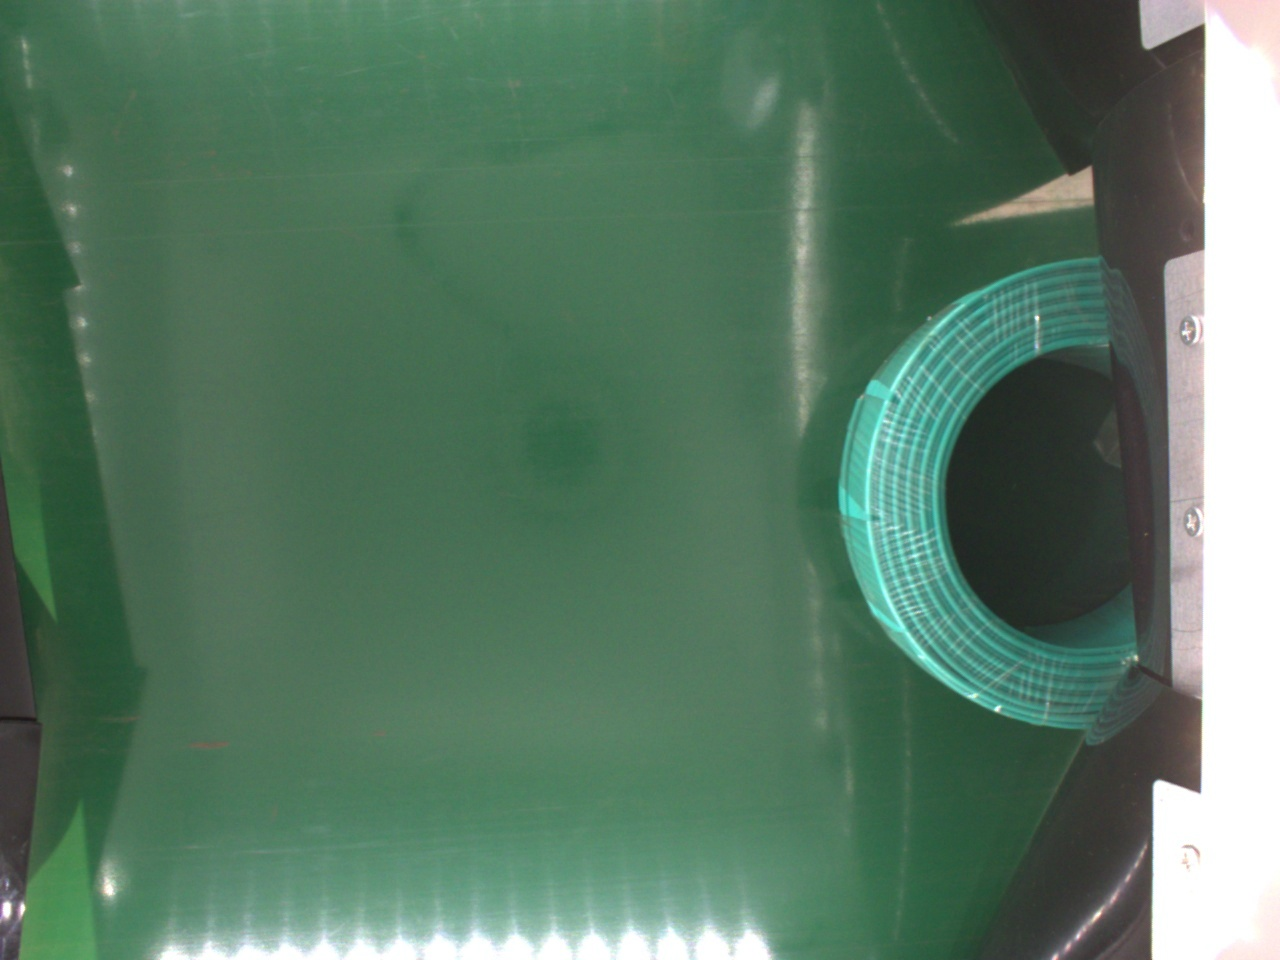green: (840, 254, 1147, 734)
